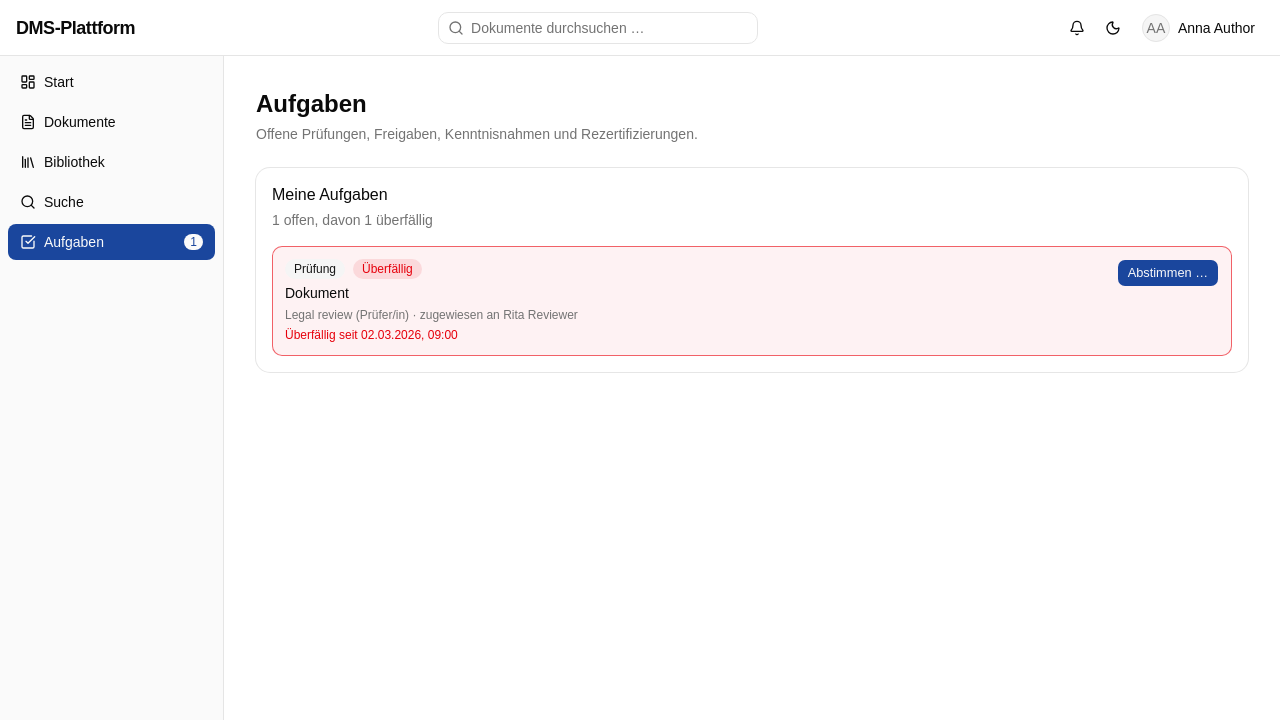
Test: German UI (DMS-110) › switches the language from the user menu
Expected: the heading "Aufgaben" is shown, [256,90,367,117]
Step 1. Click the button with aria-label "Benutzermenü" → (1198, 28), box [1133,12,1264,44]
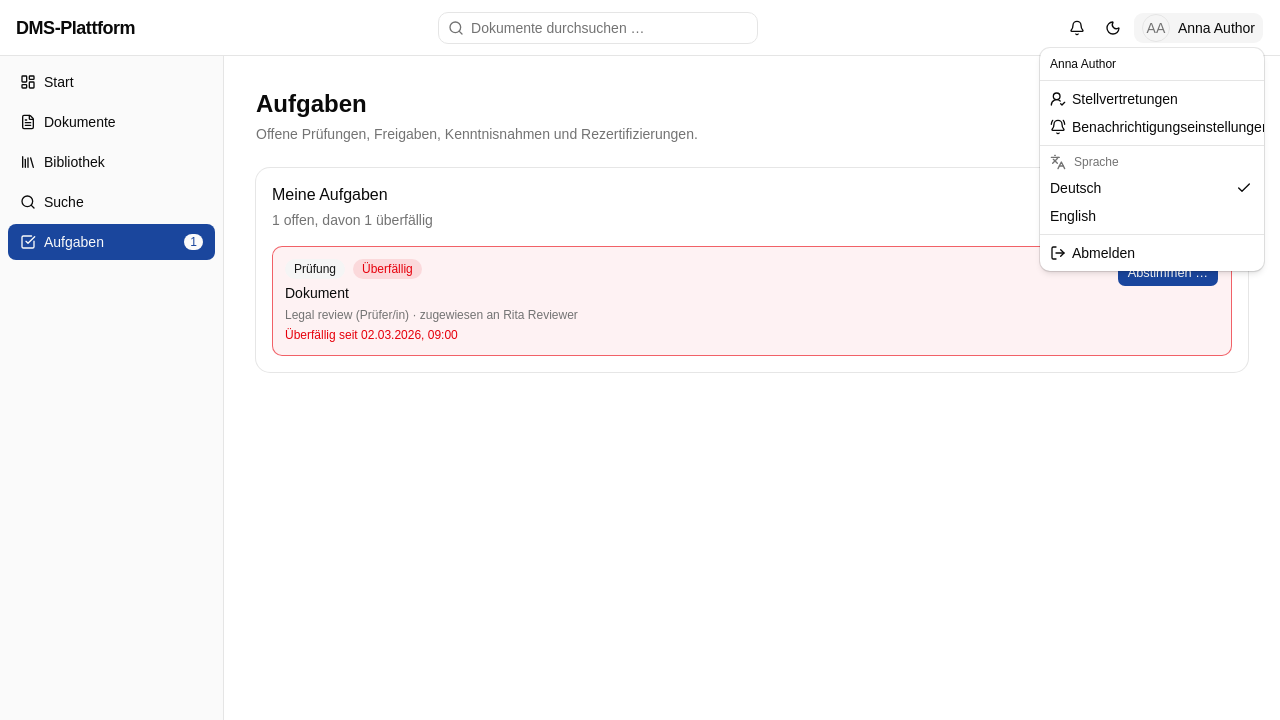
Step 2. Click the menu item "English" → (1073, 216), box [1050,208,1096,224]
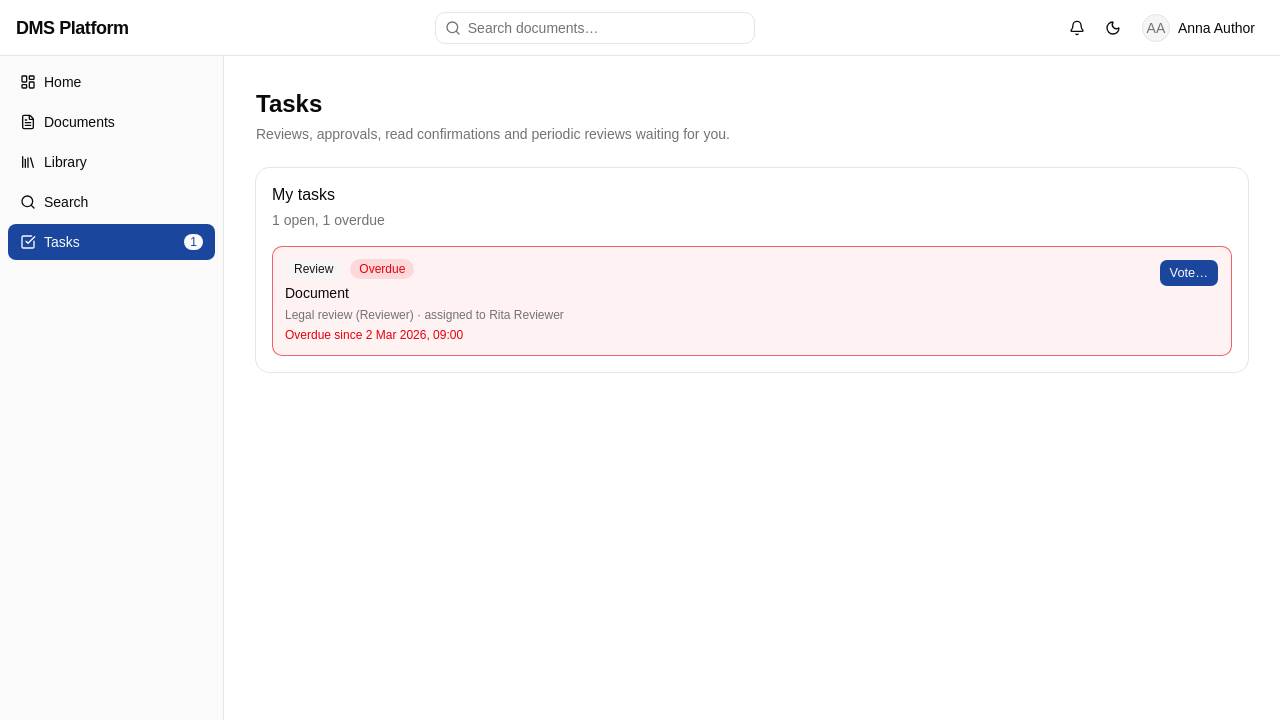
Expected: the heading "Tasks" is shown, [256,90,322,117]
